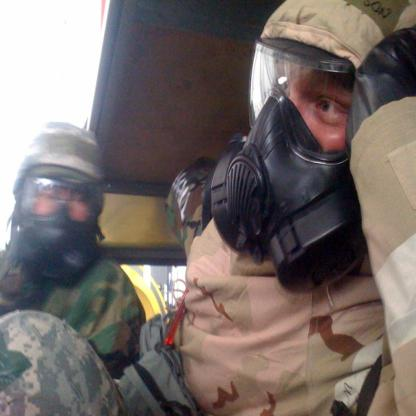Helmet: (215, 0, 415, 296), (11, 122, 109, 289)
